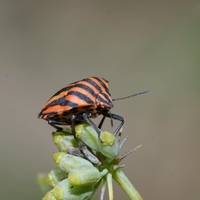insect: (38, 77, 123, 134)
